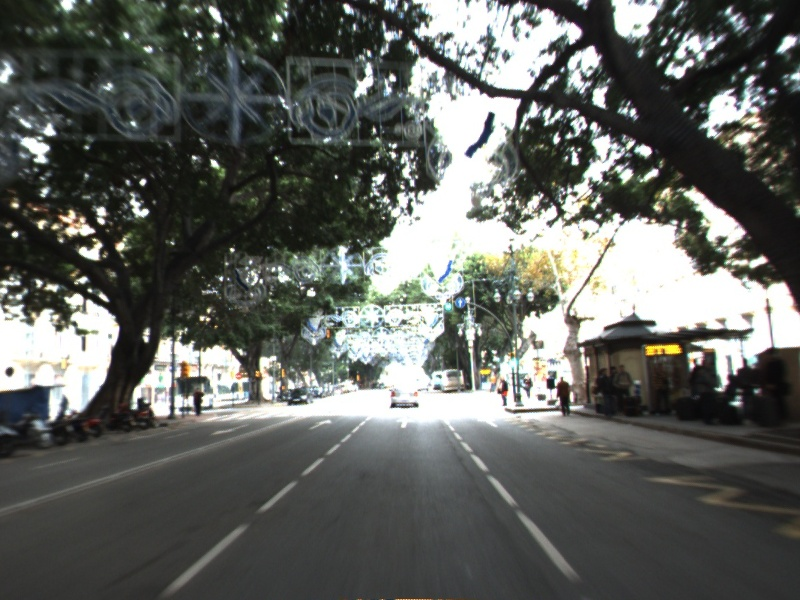STRAIGHT: (305, 418, 335, 432)
